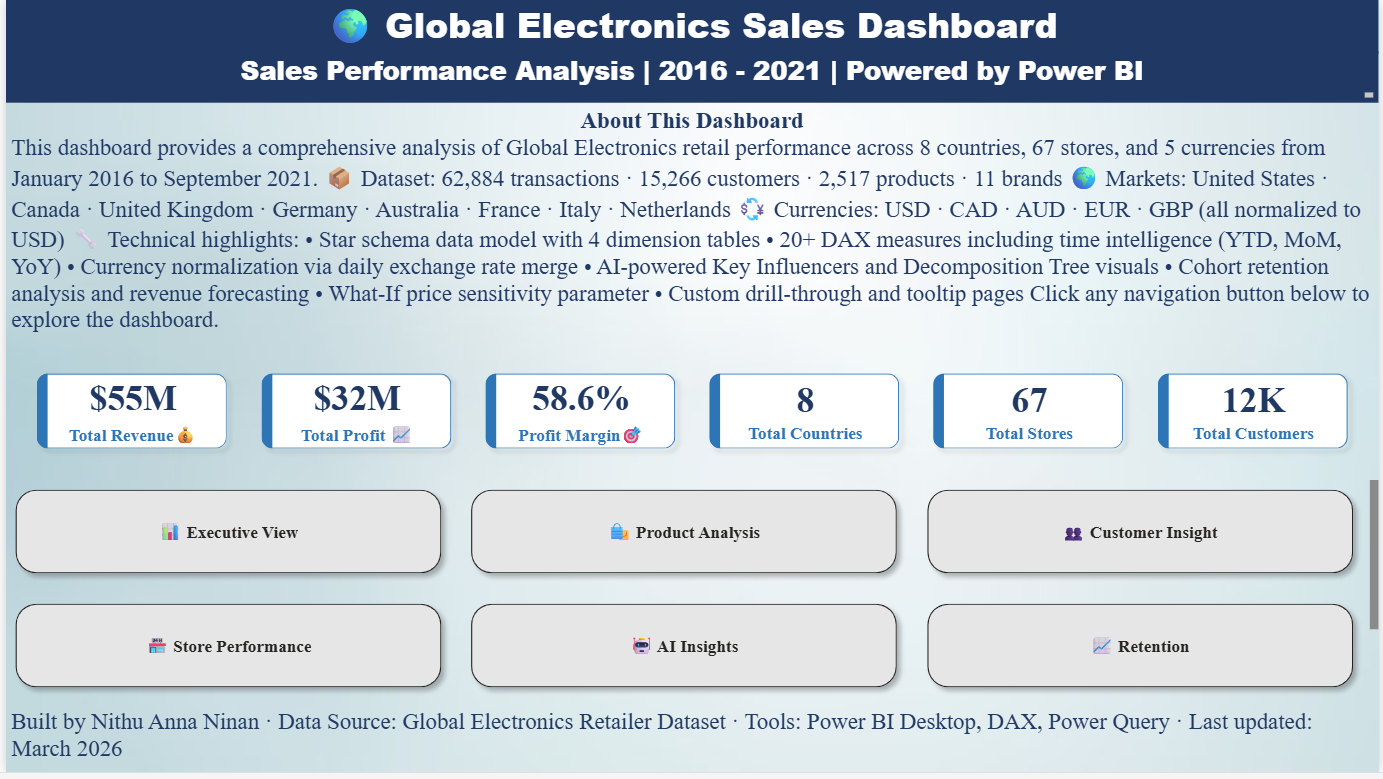

What the dashboard file says about the page in this screenshot:
{"tool":"powerbi","page":{"name":"🏠 Home","canvas":[1280,720],"ordinal":0},"visuals":[{"type":"textbox","title":"🌍 Global Electronics Sales Dashboard","box":[0,0,1280,50],"z":0},{"type":"textbox","title":"Sales Performance Analysis | 2016 - 2021 | Powered by Power BI","box":[0,48,1280,48],"z":1000},{"type":"textbox","box":[0,96,1280,224],"z":2000},{"type":"cardVisual","fields":{"Data":["Measure.Total Revenue","Measure.Total Profit","Measure.Profit Margin","Measure.Total Countries","Measure.Total Stores","Measure.Total Customers"]},"box":[0,320,1280,128],"z":3000},{"type":"pageNavigator","box":[0,448,1280,208],"z":4000},{"type":"textbox","box":[0,656,1280,64],"z":5000}]}

Visuals, with their boxes in screenshot pixels (x1, y1, x2, y2), scaled from the page's 1280x720 canvas onto the 1383x779 screenshot:
"🌍 Global Electronics Sales Dashboard" textbox: [left=0, top=0, right=1382, bottom=54]
"Sales Performance Analysis | 2016 - 2021 | Powered by Power BI" textbox: [left=0, top=52, right=1382, bottom=104]
textbox: [left=0, top=104, right=1382, bottom=346]
cardVisual - Measure.Total Revenue x Measure.Total Profit: [left=0, top=346, right=1382, bottom=485]
pageNavigator: [left=0, top=485, right=1382, bottom=710]
textbox: [left=0, top=710, right=1382, bottom=778]
